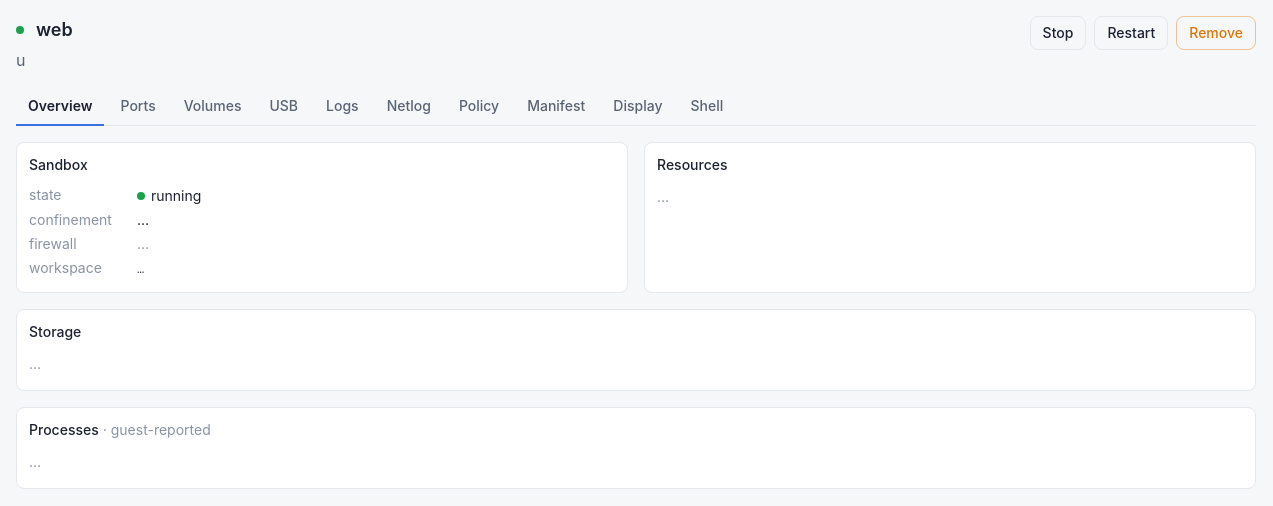
Test: Detail tabs › has a Display tab, present even with vnc off, that renders DisplayTab content
This screenshot has width=1273, height=506.
What coordinates should you click on to do the following:
click the tab "Display"
I would click on:
 (638, 107)
Its box is [601, 88, 674, 126].
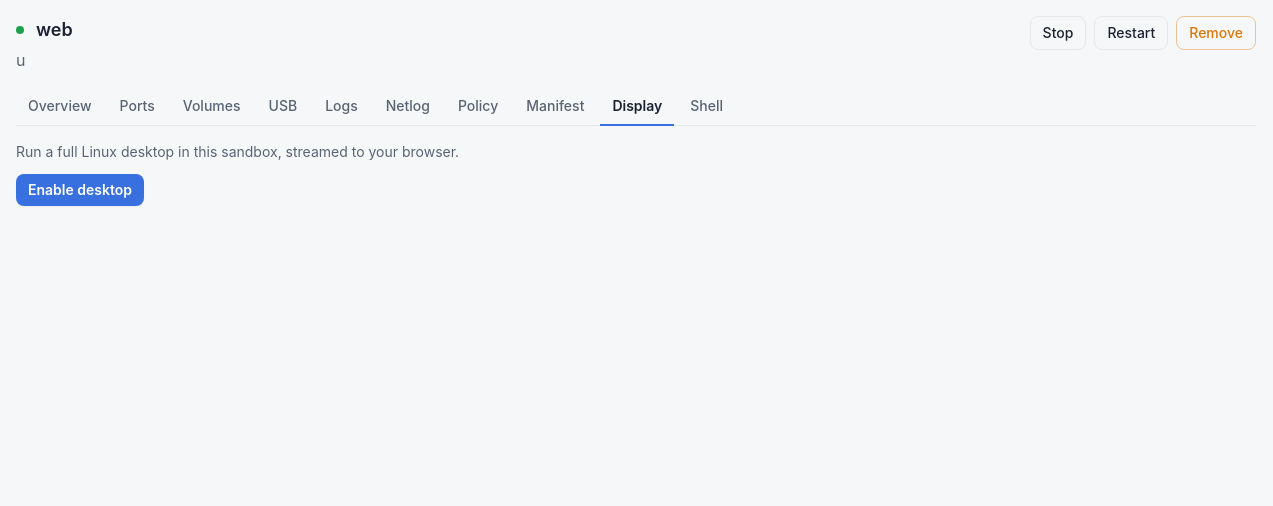
Check: the text "Run a full Linux desktop in this sandbox" is shown, box [16, 143, 459, 160]
